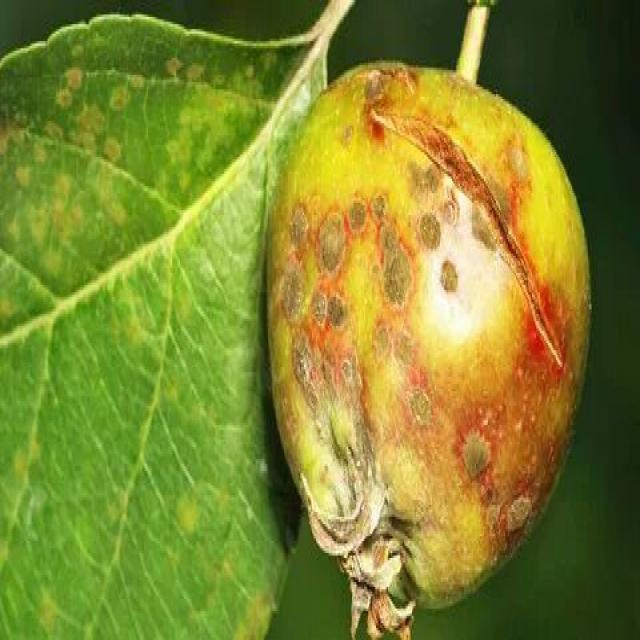Rotten: (295, 60, 577, 630)
